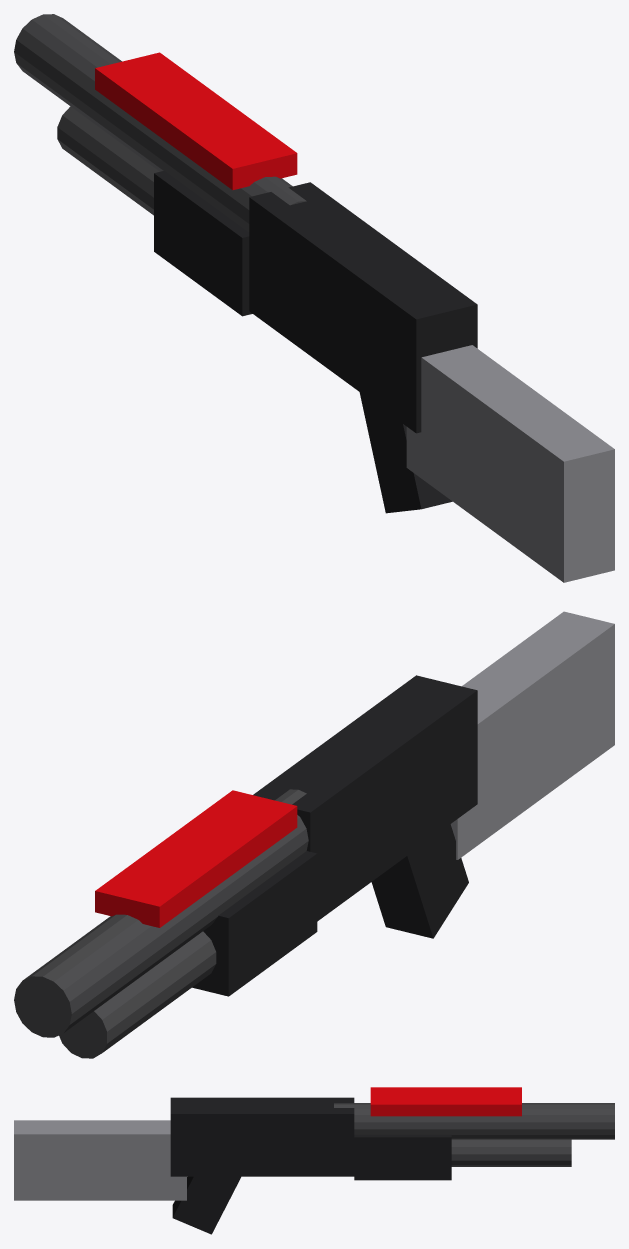
File: tactical_shotgun.glb
3 views of the same model, one above another, from view 1: azimuth 30°, elevation 25°; view 2: azimuth 150°, elevation 25°; view 3: azimuth 270°, elevation 25° (orthographic). The views are drawn at different scales.
Parts seen in each view (by area): view 1: Cube, Cube.001, Cube.004, Cylinder, Cube.003, Cylinder.001, Cube.002; view 2: Cube, Cube.001, Cylinder, Cube.004, Cube.003, Cylinder.001, Cube.002; view 3: Cube, Cube.001, Cylinder, Cube.003, Cube.004, Cylinder.001, Cube.002.
Part boxes in pixels (bbox=[...]): Cube: bbox=[249, 182, 477, 433]; Cube.001: bbox=[406, 345, 614, 582]; Cube.004: bbox=[95, 52, 297, 189]; Cylinder: bbox=[14, 14, 306, 232]; Cube.003: bbox=[154, 170, 252, 316]; Cylinder.001: bbox=[57, 106, 159, 215]; Cube.002: bbox=[359, 392, 452, 513]; Cube: bbox=[253, 675, 477, 921]; Cube.001: bbox=[450, 611, 614, 859]; Cylinder: bbox=[14, 789, 308, 1037]; Cube.004: bbox=[95, 790, 297, 927]; Cube.003: bbox=[192, 851, 317, 996]; Cylinder.001: bbox=[59, 931, 216, 1058]; Cube.002: bbox=[371, 824, 468, 938]; Cube: bbox=[170, 1097, 354, 1176]; Cube.001: bbox=[14, 1120, 186, 1200]; Cylinder: bbox=[334, 1103, 614, 1139]; Cube.003: bbox=[354, 1134, 451, 1180]; Cube.004: bbox=[370, 1087, 521, 1116]; Cylinder.001: bbox=[451, 1139, 571, 1166]; Cube.002: bbox=[172, 1176, 240, 1234].
Bounding box in the file's own units: 0.22 × 0.6754 × 2.78.
